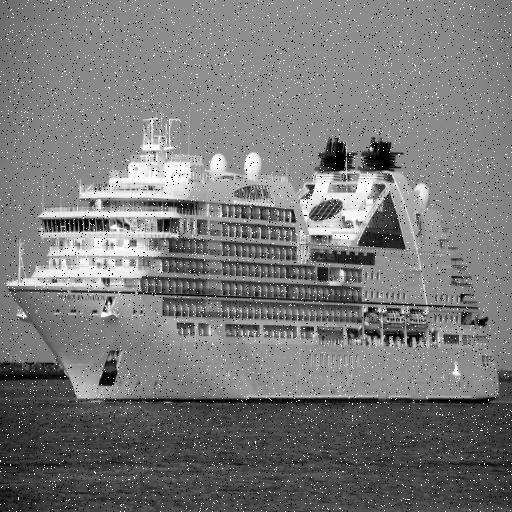cruises: (3, 106, 503, 412)
